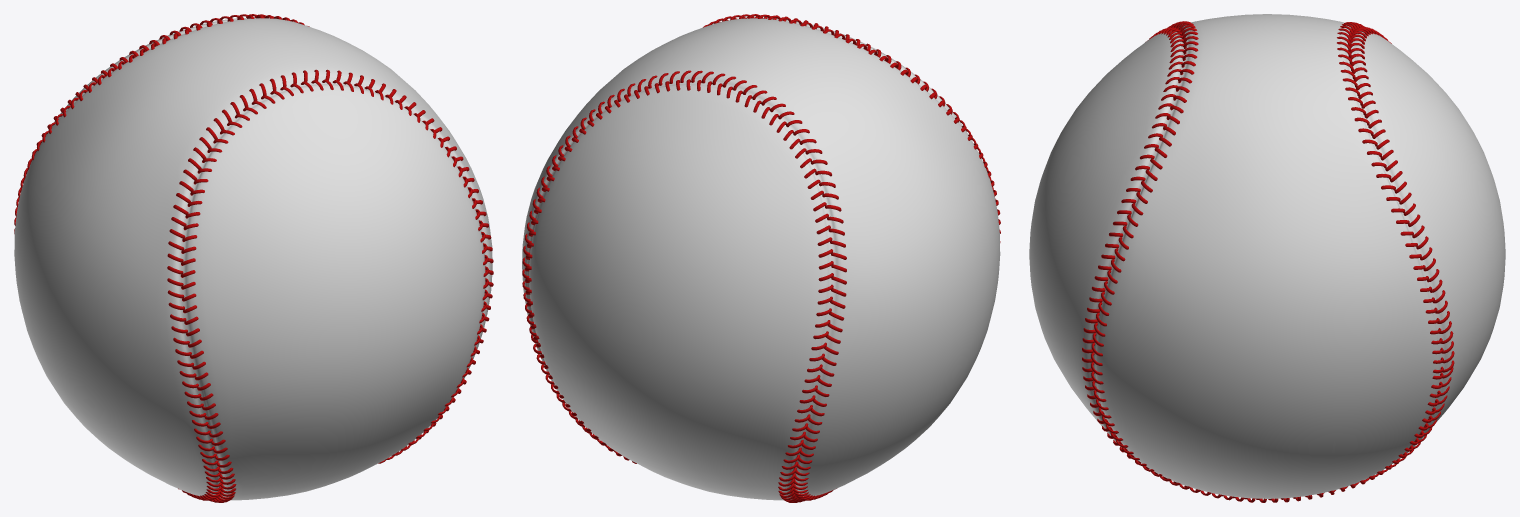
Rendered from Ball.fbx.
3 views of the same model, side by side, from view 1: azimuth 30°, elevation 25°; view 2: azimuth 150°, elevation 25°; view 3: azimuth 270°, elevation 25° (orthographic).
Parts seen in each view (by area): view 1: Ball, Torus.001; view 2: Ball, Torus.001; view 3: Ball, Torus.001.
Boxes of the visible parts, x1,y1,x2,y2 form: Ball: [14, 18, 492, 500]; Torus.001: [14, 14, 493, 502]; Ball: [522, 18, 1000, 500]; Torus.001: [522, 14, 1000, 502]; Ball: [1029, 14, 1505, 498]; Torus.001: [1082, 21, 1454, 502].
Bounding box in the file's own units: 161 × 163 × 161.
